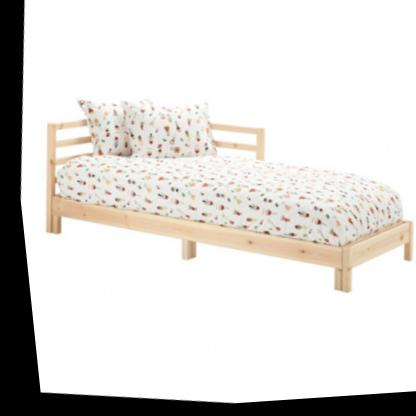Bed: (21, 74, 416, 320)
